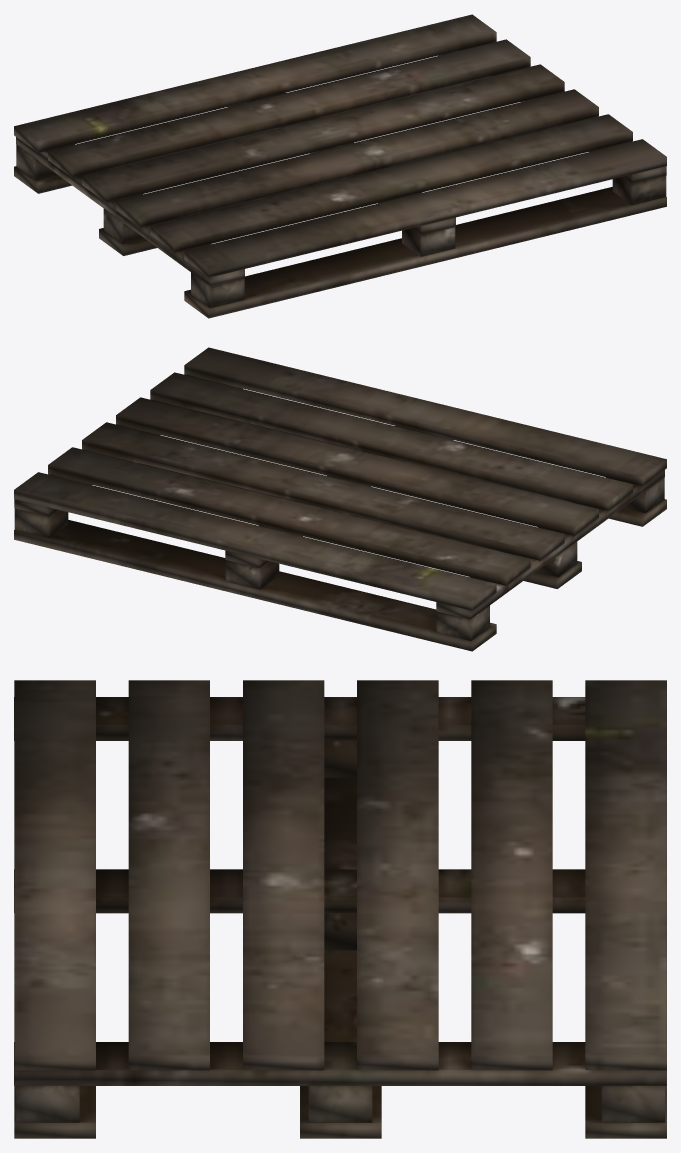
Rendered from wood-pallet--2.gltf.
3 views of the same model, one above another, from view 1: azimuth 30°, elevation 25°; view 2: azimuth 150°, elevation 25°; view 3: azimuth 270°, elevation 25° (orthographic). The views are drawn at different scales.
Parts seen in each view (by area): view 1: Cube.001; view 2: Cube.001; view 3: Cube.001.
Part boxes in pixels (x1,y1,x2,y2): Cube.001: (14,14,666,318); Cube.001: (14,347,666,651); Cube.001: (14,680,666,1138).
Size of the model in its own units: 1.35 by 0.1401 by 0.9921.
1 material, 1 textured.
